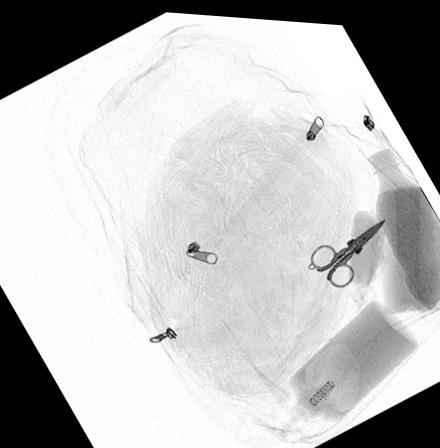Scissors: (310, 213, 386, 284)
